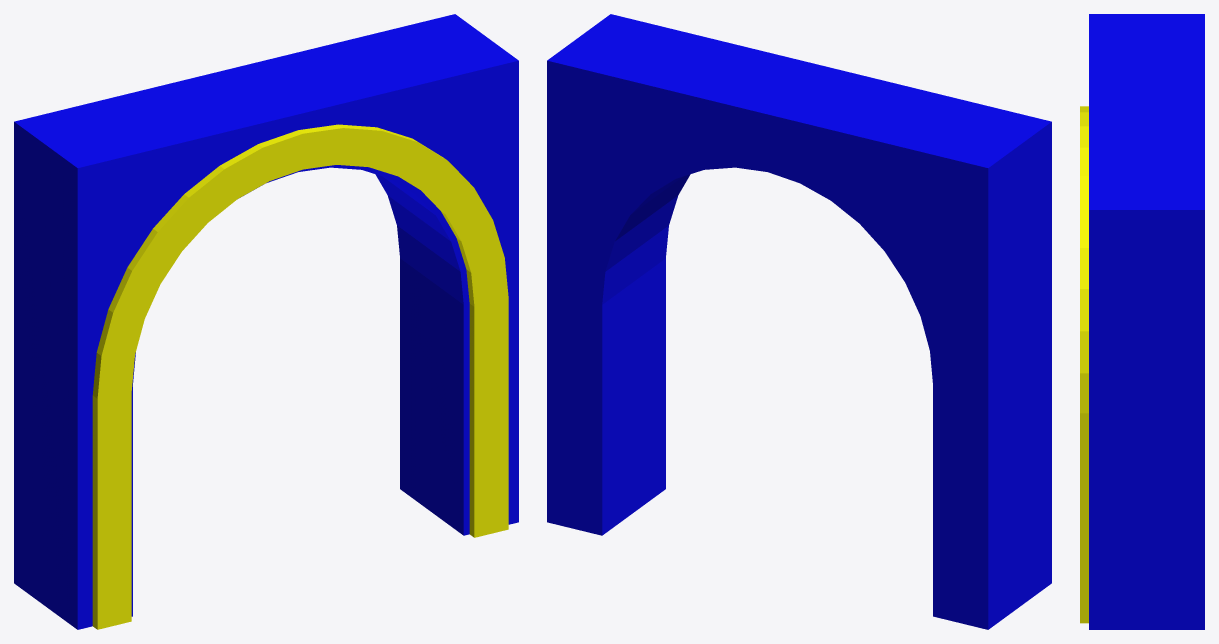
Rendered from ARCH_TOP_SIMPLE.fbx.
The picture shows the model from 3 angles, left to right: view 1: azimuth 30°, elevation 25°; view 2: azimuth 150°, elevation 25°; view 3: azimuth 270°, elevation 25°; orthographic projection. The views are drawn at different scales.
Parts seen in each view (by area): view 1: ARCH_TOP_SIMPLE; view 2: ARCH_TOP_SIMPLE; view 3: ARCH_TOP_SIMPLE.
Boxes of the visible parts, x1,y1,x2,y2 form: ARCH_TOP_SIMPLE: (14,14,518,629); ARCH_TOP_SIMPLE: (547,14,1051,629); ARCH_TOP_SIMPLE: (1080,14,1204,629).
Size of the model in its own units: 400 by 400 by 108.
